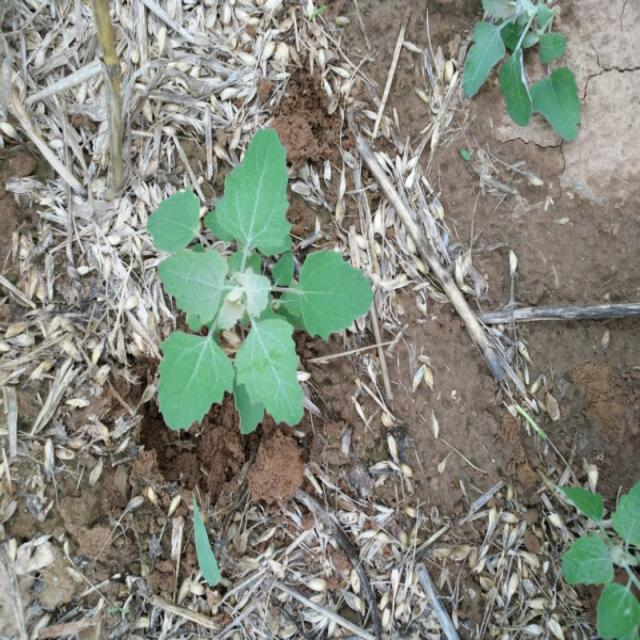goosefoots: (102, 115, 391, 459)
